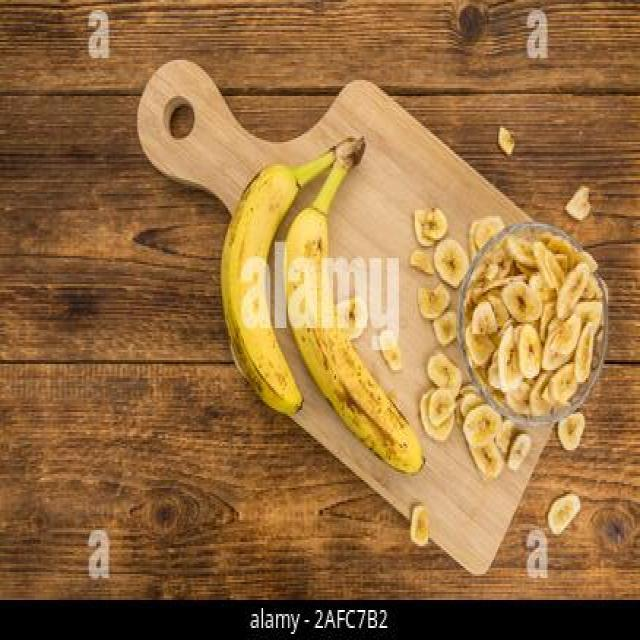banana: (218, 128, 431, 488)
